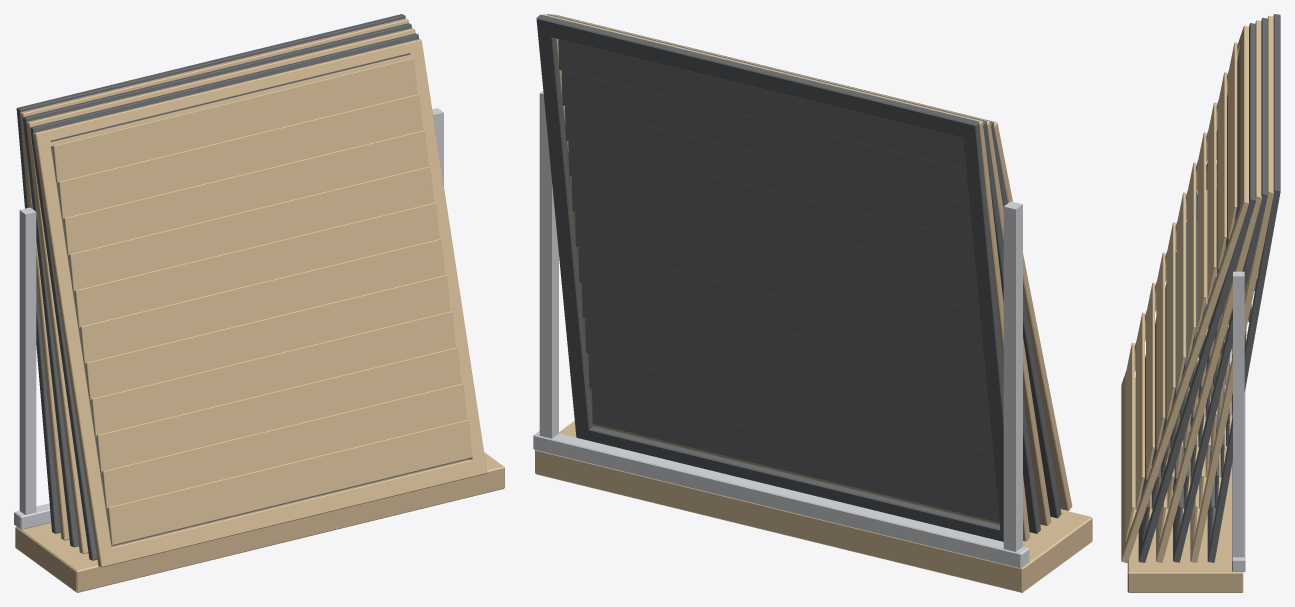
The picture shows the model from 3 angles, left to right: view 1: azimuth 30°, elevation 25°; view 2: azimuth 150°, elevation 25°; view 3: azimuth 270°, elevation 25°; orthographic projection. The views are drawn at different scales.
Visible parts, largest first — view 1: fence-panel-stack; view 2: fence-panel-stack; view 3: fence-panel-stack.
Boxes of the visible parts, x1,y1,x2,y2 form: fence-panel-stack: (14, 14, 504, 592); fence-panel-stack: (533, 14, 1092, 592); fence-panel-stack: (1121, 14, 1280, 592).
Size of the model in its own units: 2 by 1.88 by 0.6896.
